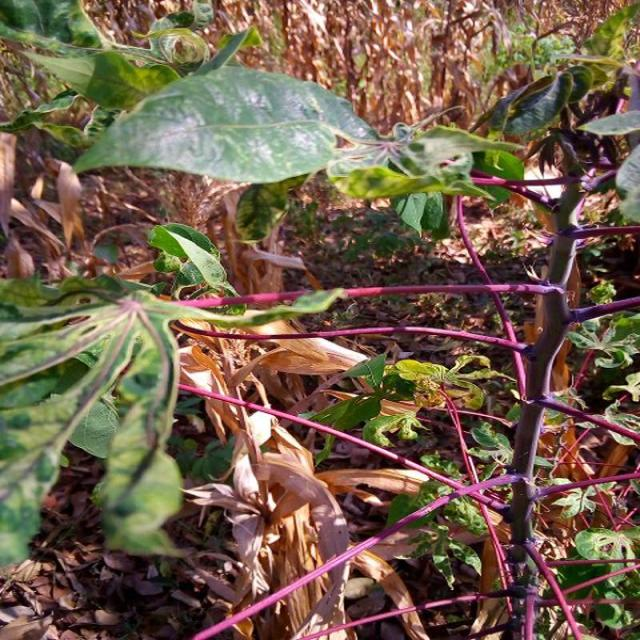cassava leaf: (70, 63, 381, 186)
